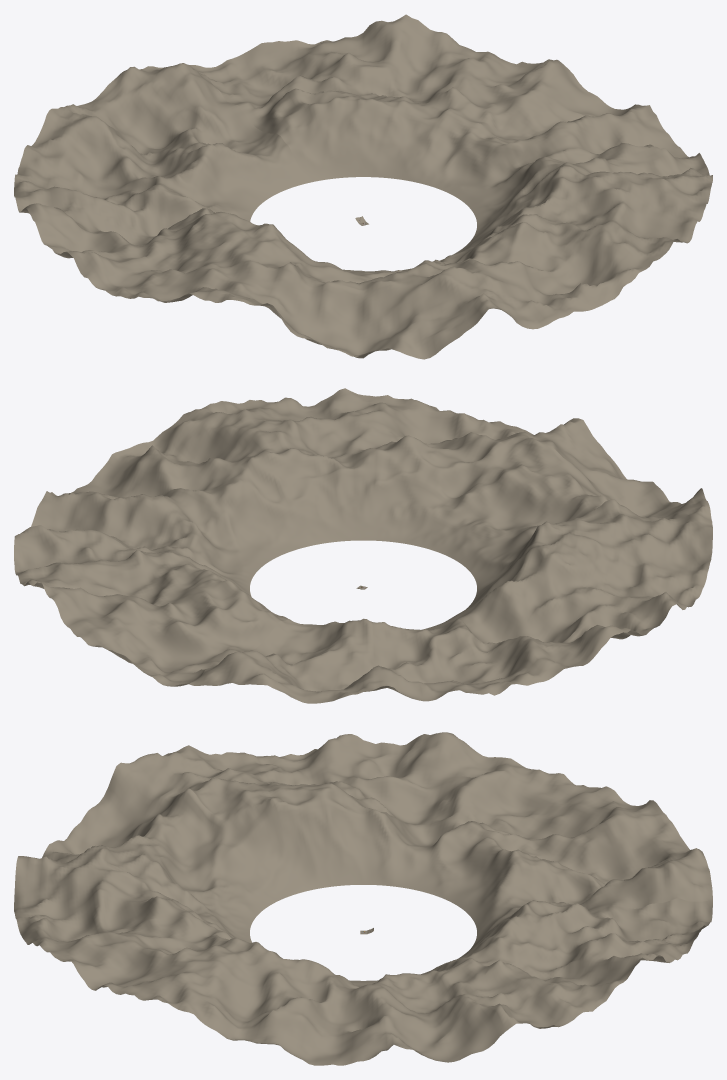
The model's file is vignette.glb.
3 renders of one model, top to bottom at view 1: azimuth 30°, elevation 25°; view 2: azimuth 150°, elevation 25°; view 3: azimuth 270°, elevation 25°, orthographic.
Parts seen in each view (by area): view 1: mountains; view 2: mountains; view 3: mountains.
Boxes of the visible parts, x1=… form: mountains: x1=14, y1=14, x2=712, y2=359; mountains: x1=14, y1=388, x2=712, y2=703; mountains: x1=14, y1=732, x2=712, y2=1065.
Bounding box in the file's own units: 16000 × 1697 × 16000.
